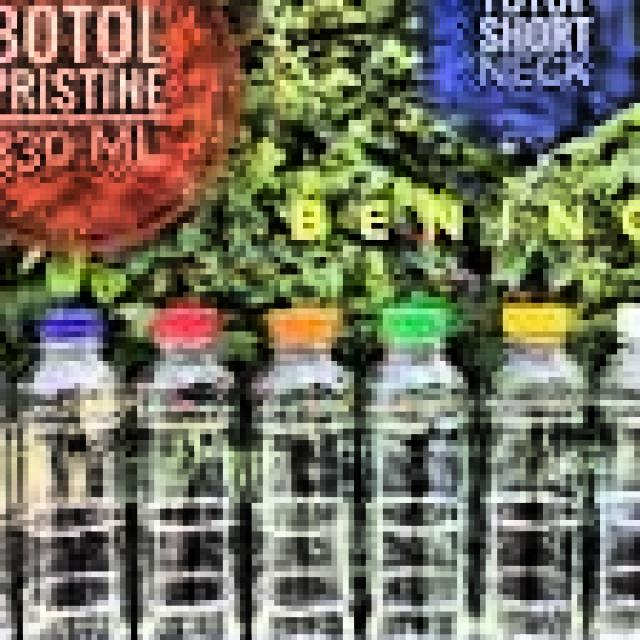plastic: (228, 308, 377, 640), (126, 280, 263, 640), (463, 291, 594, 640), (366, 280, 491, 640), (17, 308, 148, 640), (0, 285, 45, 640), (600, 297, 640, 640)
